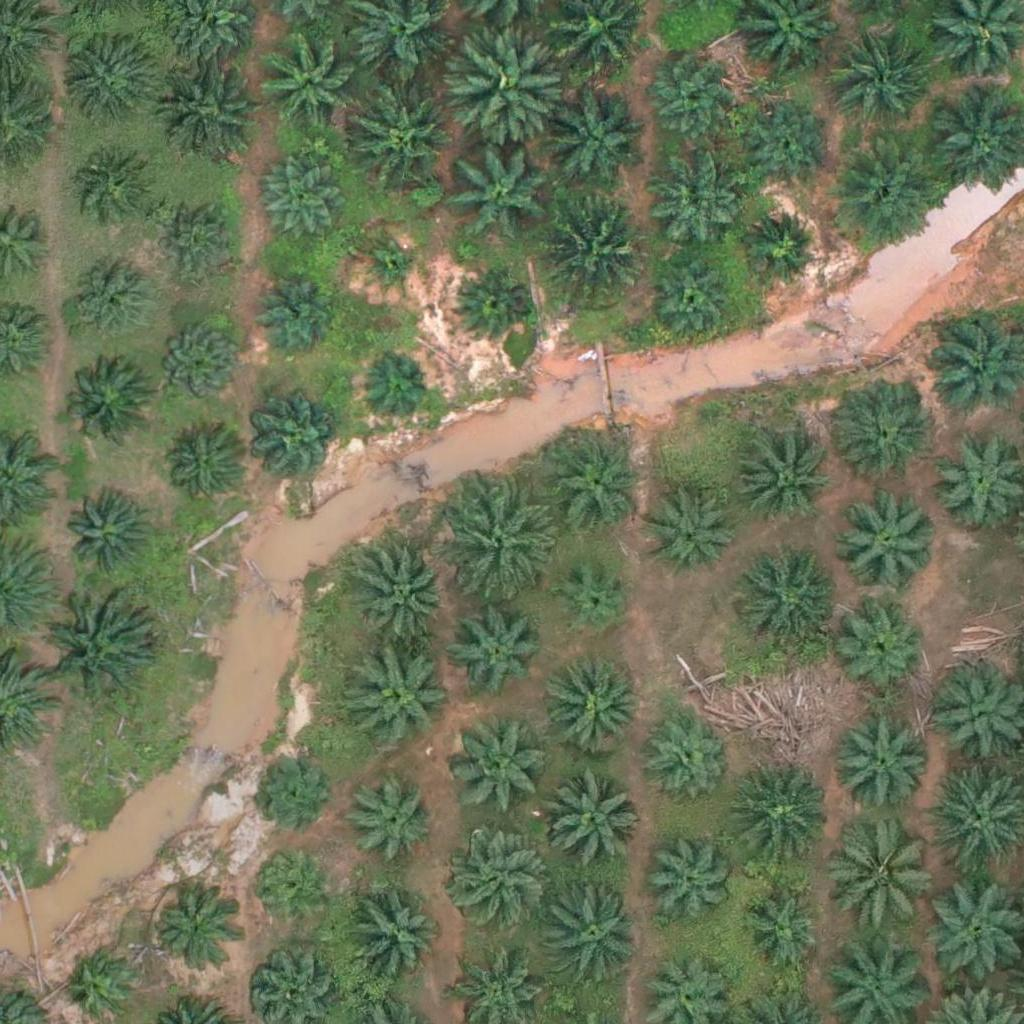Kelapa_Sawit: (442, 487, 555, 601), (456, 28, 569, 141), (829, 143, 942, 256), (40, 592, 153, 705), (348, 74, 460, 187), (451, 137, 563, 250), (542, 189, 654, 302), (823, 24, 935, 137), (829, 821, 941, 934), (59, 27, 159, 128), (260, 31, 360, 132), (544, 91, 644, 192), (547, 435, 647, 536), (642, 158, 742, 259), (833, 378, 933, 479), (733, 427, 833, 528), (923, 879, 1023, 980), (835, 713, 935, 814), (838, 488, 938, 589), (734, 548, 834, 649), (447, 829, 547, 930), (339, 770, 439, 871), (161, 54, 261, 154), (345, 890, 445, 990), (729, 767, 829, 867), (543, 656, 643, 756), (543, 769, 643, 869), (542, 884, 642, 984), (451, 714, 551, 814), (355, 544, 455, 644), (346, 650, 446, 750), (71, 153, 159, 241), (258, 159, 346, 247), (255, 398, 343, 486), (738, 203, 826, 291), (249, 847, 337, 935), (738, 880, 826, 968), (648, 490, 736, 578), (160, 425, 247, 513), (155, 318, 242, 406), (155, 197, 242, 285), (65, 257, 152, 345), (61, 357, 148, 445), (253, 265, 340, 353), (649, 54, 736, 142), (651, 258, 738, 346), (744, 99, 831, 187), (153, 889, 240, 977), (838, 600, 925, 688), (645, 834, 732, 922), (642, 711, 729, 799), (452, 611, 539, 699), (251, 748, 338, 836), (66, 494, 153, 582), (453, 266, 528, 342), (556, 560, 631, 636), (359, 349, 434, 424), (360, 238, 423, 301)
